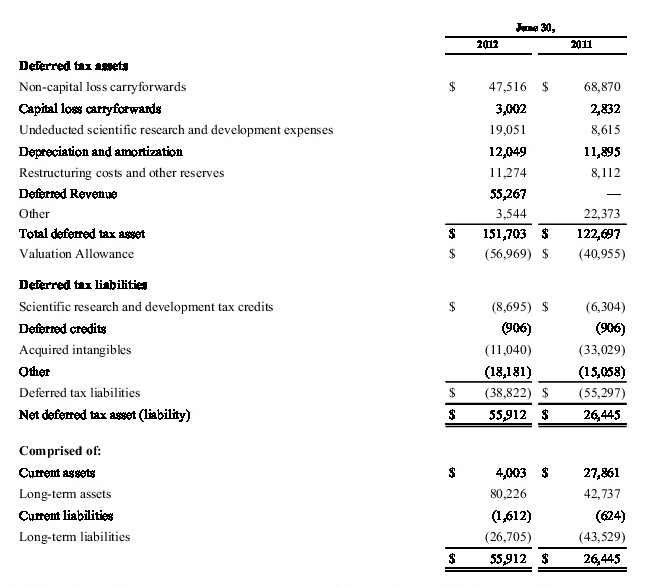table: (0, 0, 652, 587)
